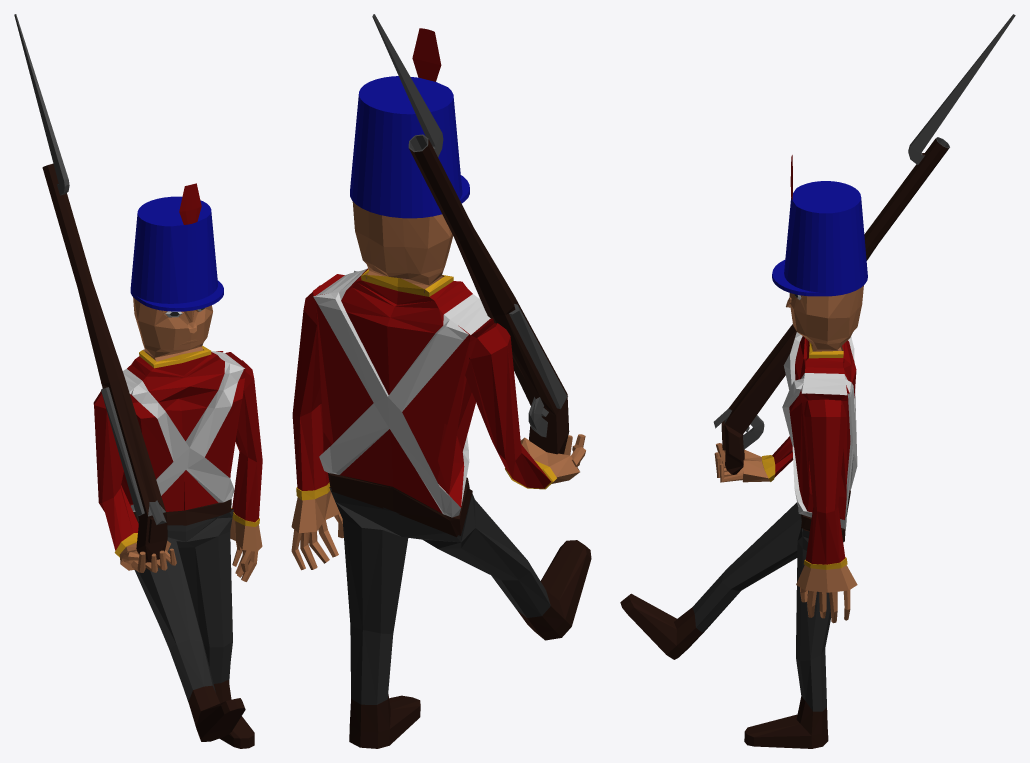
Rendered from Infantry_000176.obj.
The picture shows the model from 3 angles, left to right: view 1: azimuth 30°, elevation 25°; view 2: azimuth 150°, elevation 25°; view 3: azimuth 270°, elevation 25°; orthographic projection. The views are drawn at different scales.
Visible parts, largest first — view 1: {Man}_Circle, {Mesket}_Cube.001; view 2: {Man}_Circle, {Mesket}_Cube.001; view 3: {Man}_Circle, {Mesket}_Cube.001.
Boxes of the visible parts, x1,y1,x2,y2 form: {Man}_Circle: (93, 183, 262, 748); {Mesket}_Cube.001: (14, 14, 167, 562); {Man}_Circle: (291, 28, 591, 748); {Mesket}_Cube.001: (372, 14, 569, 454); {Man}_Circle: (620, 155, 867, 748); {Mesket}_Cube.001: (713, 14, 1015, 474).
Size of the model in its own units: 5.63 by 19.62 by 10.38.
